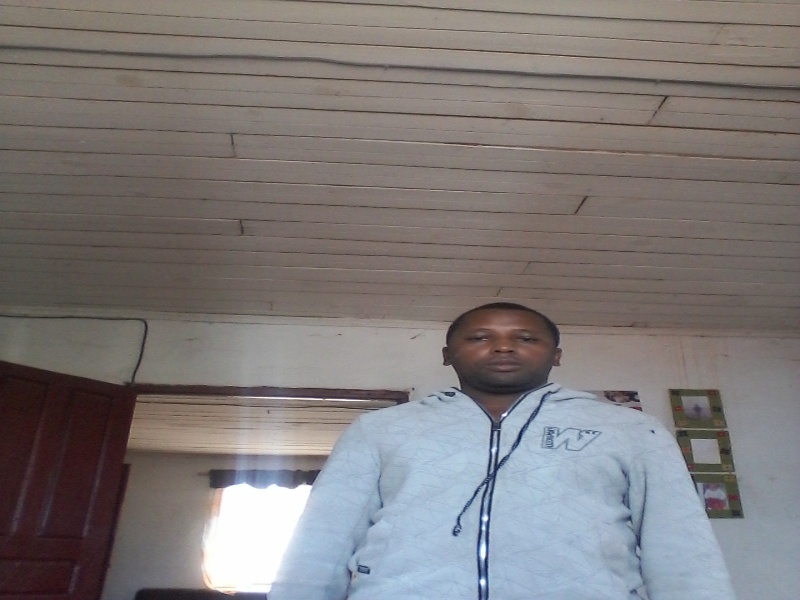TsisyArotava: (437, 291, 579, 406)
